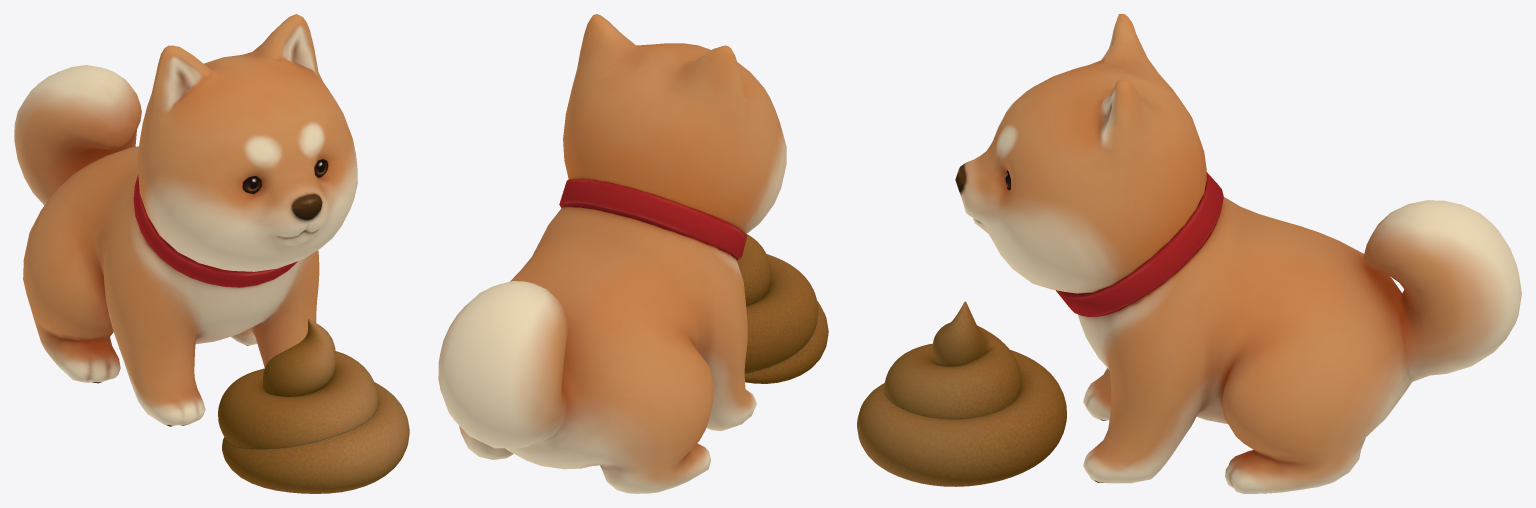
Rendered from shit_shiba.glb.
The picture shows the model from 3 angles, left to right: view 1: azimuth 30°, elevation 25°; view 2: azimuth 150°, elevation 25°; view 3: azimuth 270°, elevation 25°; orthographic projection. The views are drawn at different scales.
Parts seen in each view (by area): view 1: Spiral.001_0; view 2: Spiral.001_0; view 3: Spiral.001_0.
Boxes of the visible parts, x1,y1,x2,y2 form: Spiral.001_0: (14,14,409,493); Spiral.001_0: (438,14,828,493); Spiral.001_0: (857,14,1521,493).
Bounding box in the file's own units: 0.9209 × 1.4 × 2.08.
Materials: 2 (2 with a texture image).
